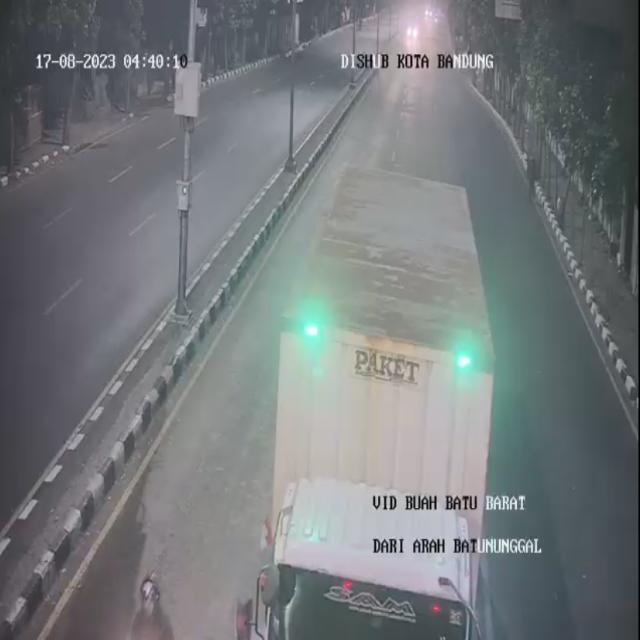motorcycle: (131, 579, 176, 640)
truck: (239, 163, 494, 639)
